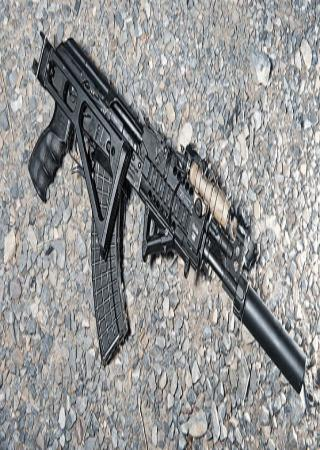rifle: (26, 23, 311, 403)
